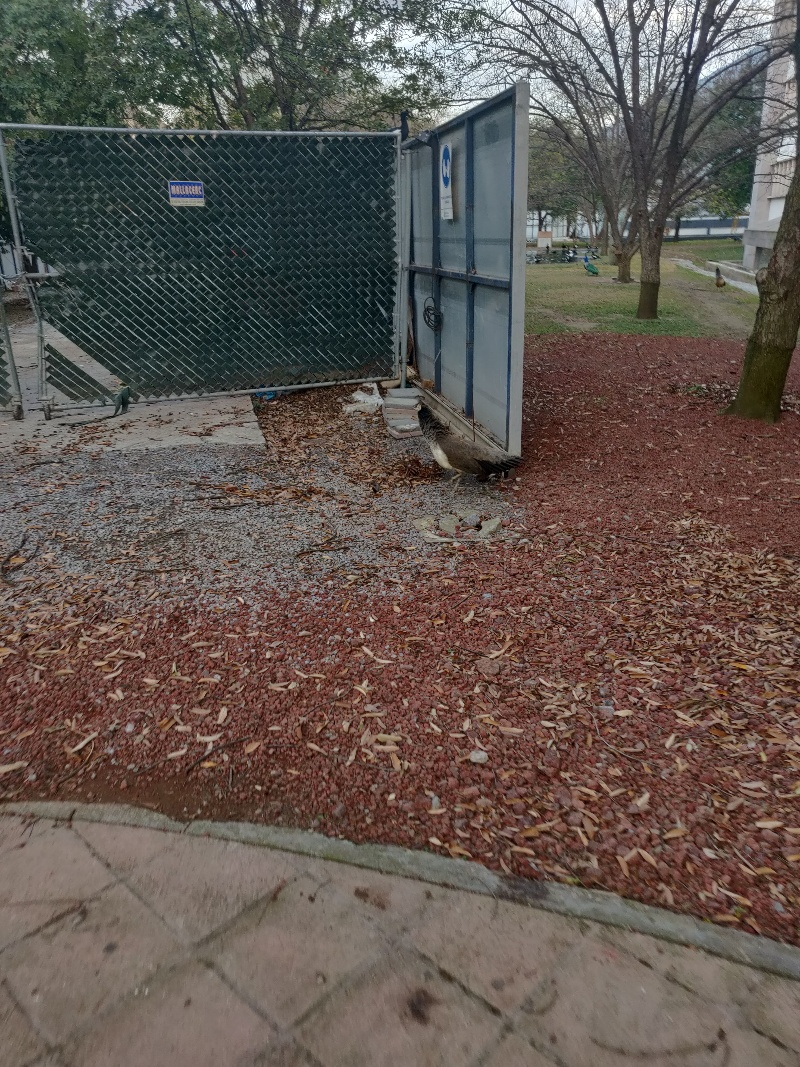pavoreal: (415, 402, 520, 488)
